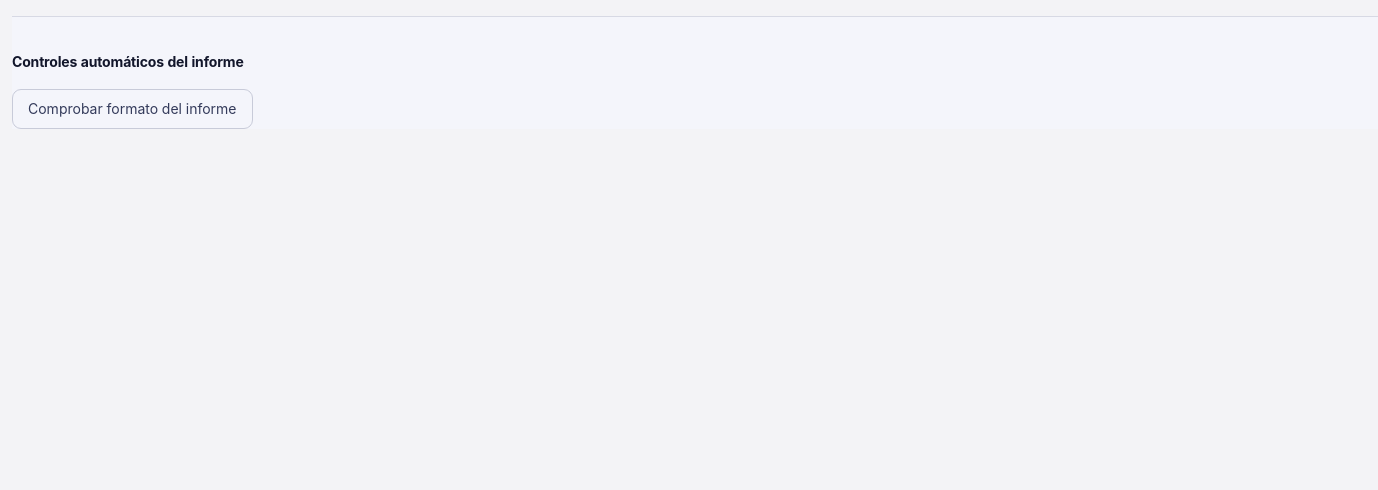
it: documentary quality inspection › shows structural failures without accepting or retrying work
Click the button "Comprobar formato del informe" at (132, 109), box [12,89,252,129]
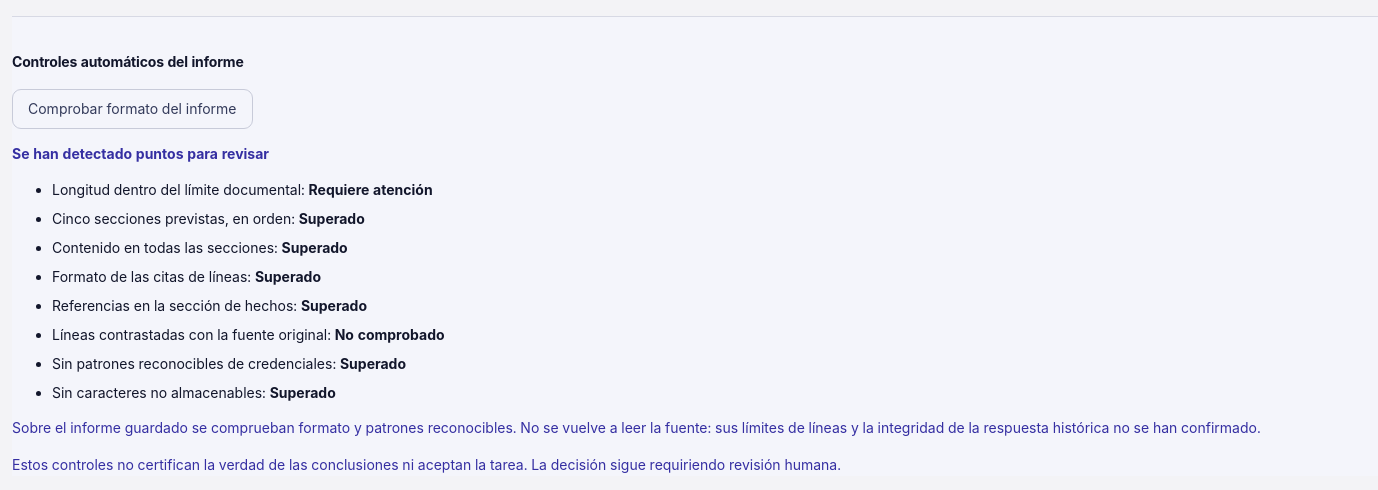
Check: the text "Se han detectado puntos para revisar" is shown, box [12,145,269,162]
